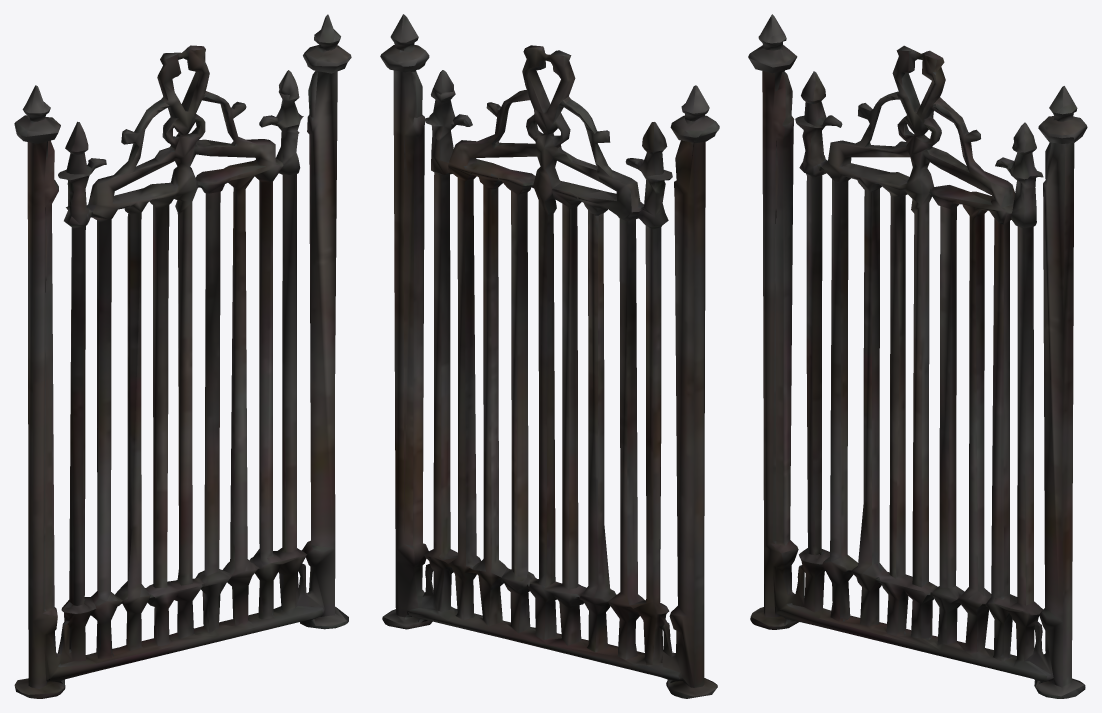
Rendered from simple-iron-iron-gate-v001.glb.
3 renders of one model, left to right at view 1: azimuth 30°, elevation 25°; view 2: azimuth 150°, elevation 25°; view 3: azimuth 330°, elevation 25°, orthographic.
Visible parts, largest first — view 1: simple-iron-iron-gate; view 2: simple-iron-iron-gate; view 3: simple-iron-iron-gate.
Boxes of the visible parts, x1,y1,x2,y2 form: simple-iron-iron-gate: (14,14,351,698); simple-iron-iron-gate: (380,14,719,698); simple-iron-iron-gate: (748,14,1087,698).
Bounding box in the file's own units: 1.43 × 2.52 × 0.1924.
Materials: 1 (1 with a texture image).
